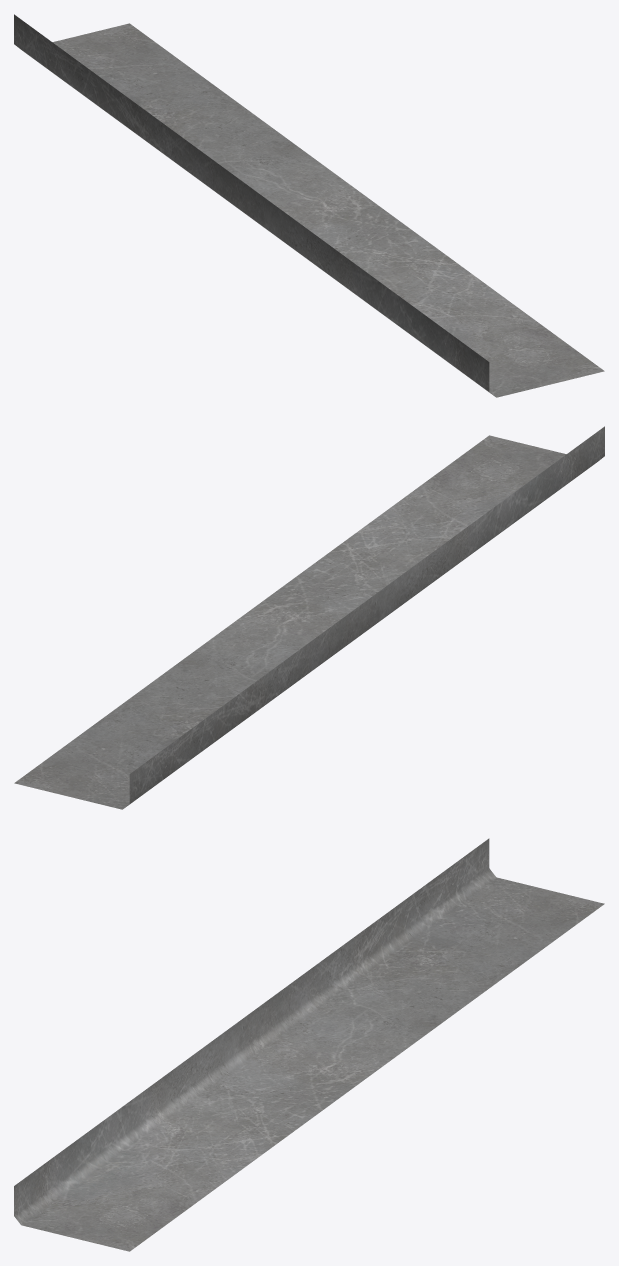
The model's file is Psychiatric_Ward_Infirmary_Ceiling_Crowning_4m.glb.
3 views of the same model, one above another, from view 1: azimuth 30°, elevation 25°; view 2: azimuth 150°, elevation 25°; view 3: azimuth 330°, elevation 25° (orthographic).
Visible parts, largest first — view 1: Psychiatric_Ward_Infirmary_Ceiling_Crowning_4m; view 2: Psychiatric_Ward_Infirmary_Ceiling_Crowning_4m; view 3: Psychiatric_Ward_Infirmary_Ceiling_Crowning_4m.
Part boxes in pixels (x1,y1,x2,y2): Psychiatric_Ward_Infirmary_Ceiling_Crowning_4m: [14, 14, 604, 397]; Psychiatric_Ward_Infirmary_Ceiling_Crowning_4m: [14, 426, 604, 809]; Psychiatric_Ward_Infirmary_Ceiling_Crowning_4m: [14, 838, 604, 1251].
Bounding box in the file's own units: 0.5621 × 0.1736 × 4.
Materials: 1 (1 with a texture image).
